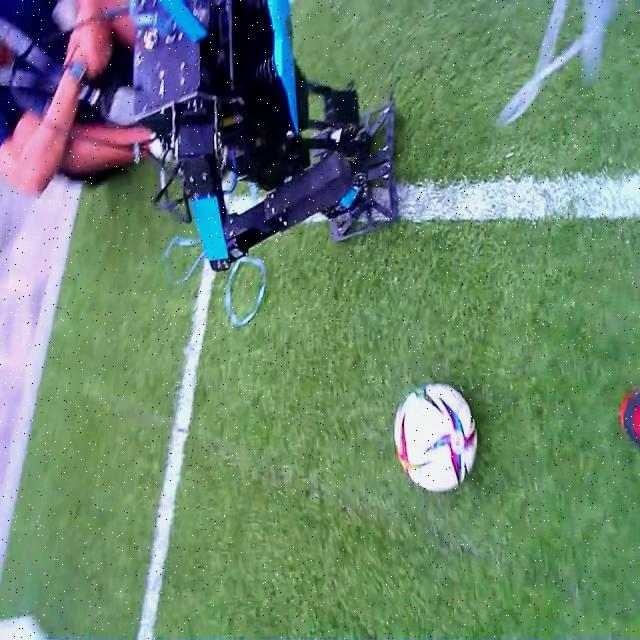ball: (397, 385, 476, 490)
